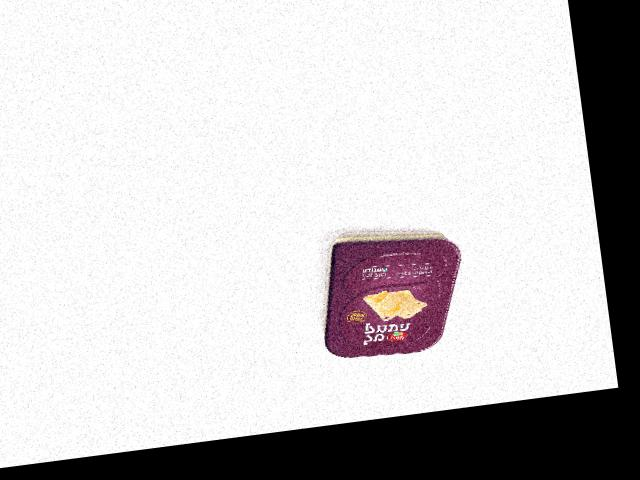cheese: (310, 219, 473, 365)
